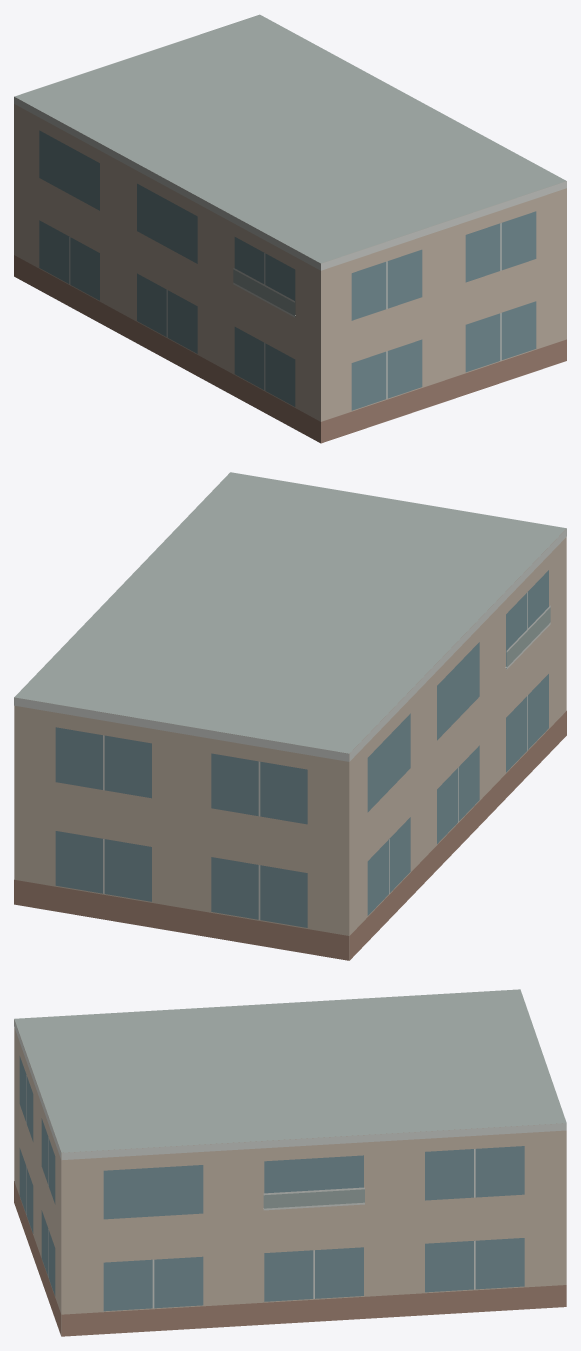
The model's file is survey-upis-32837740.glb.
3 renders of one model, top to bottom at view 1: azimuth 30°, elevation 25°; view 2: azimuth 150°, elevation 25°; view 3: azimuth 270°, elevation 25°, orthographic. The views are drawn at different scales.
Visible parts, largest first — view 1: survey-upis-32837740.tmp; view 2: survey-upis-32837740.tmp; view 3: survey-upis-32837740.tmp.
Boxes of the visible parts, bbox=[...] form: survey-upis-32837740.tmp: bbox=[14, 14, 566, 443]; survey-upis-32837740.tmp: bbox=[14, 472, 566, 960]; survey-upis-32837740.tmp: bbox=[14, 989, 566, 1336].
Bounding box in the file's own units: 11.66 × 6.1 × 16.64.
